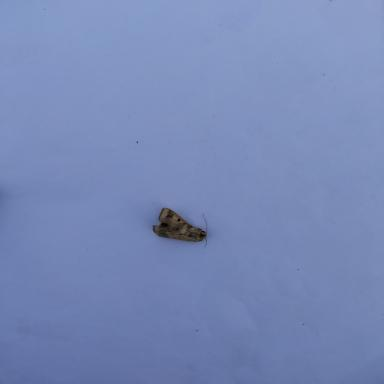abw: (150, 206, 210, 248)
